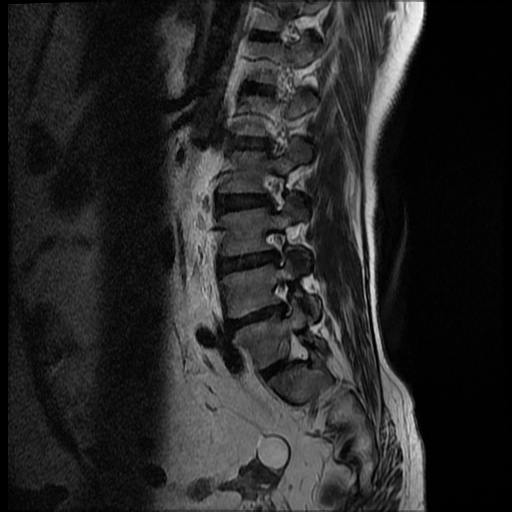LFS0: (264, 276, 307, 323), (258, 225, 295, 274)
